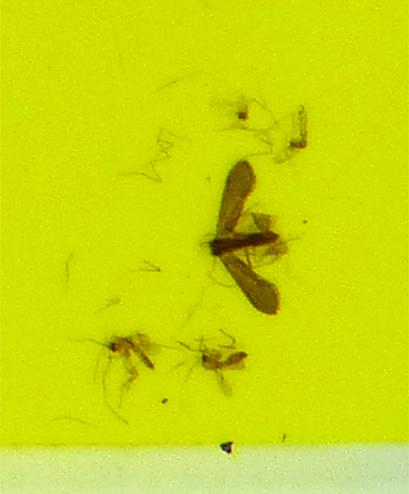Nematocera: (100, 330, 156, 389), (195, 337, 249, 394), (284, 105, 309, 154), (232, 100, 250, 123)
Trichoptera: (202, 224, 281, 260)
